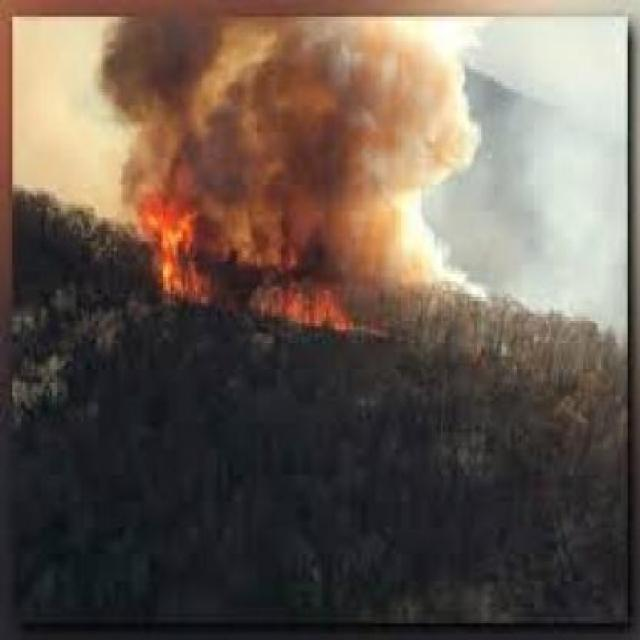Fire: (110, 169, 230, 328), (245, 266, 372, 341)
Smoke: (4, 15, 621, 244)
